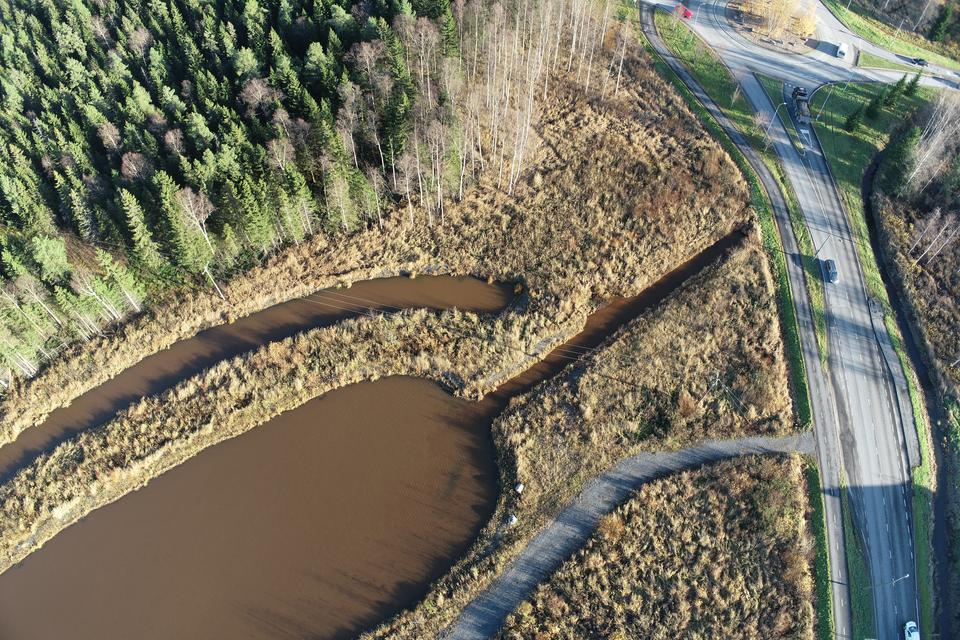intersection: (773, 405, 941, 481)
roundabout: (620, 0, 930, 143)
